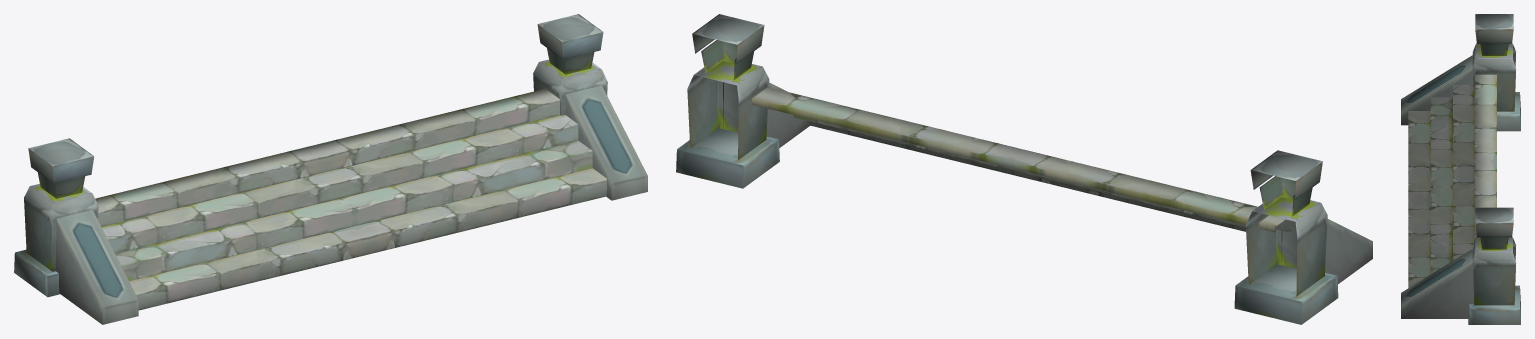
The model's file is Map_06_stairs06.FBX.
3 renders of one model, left to right at view 1: azimuth 30°, elevation 25°; view 2: azimuth 150°, elevation 25°; view 3: azimuth 270°, elevation 25°, orthographic. The views are drawn at different scales.
Parts seen in each view (by area): view 1: Map_06_stairs06; view 2: Map_06_stairs06; view 3: Map_06_stairs06.
Boxes of the visible parts, x1,y1,x2,y2 form: Map_06_stairs06: (14,14,647,324); Map_06_stairs06: (676,14,1372,324); Map_06_stairs06: (1401,14,1520,324).
Size of the model in its own units: 1485 by 346 by 312.
